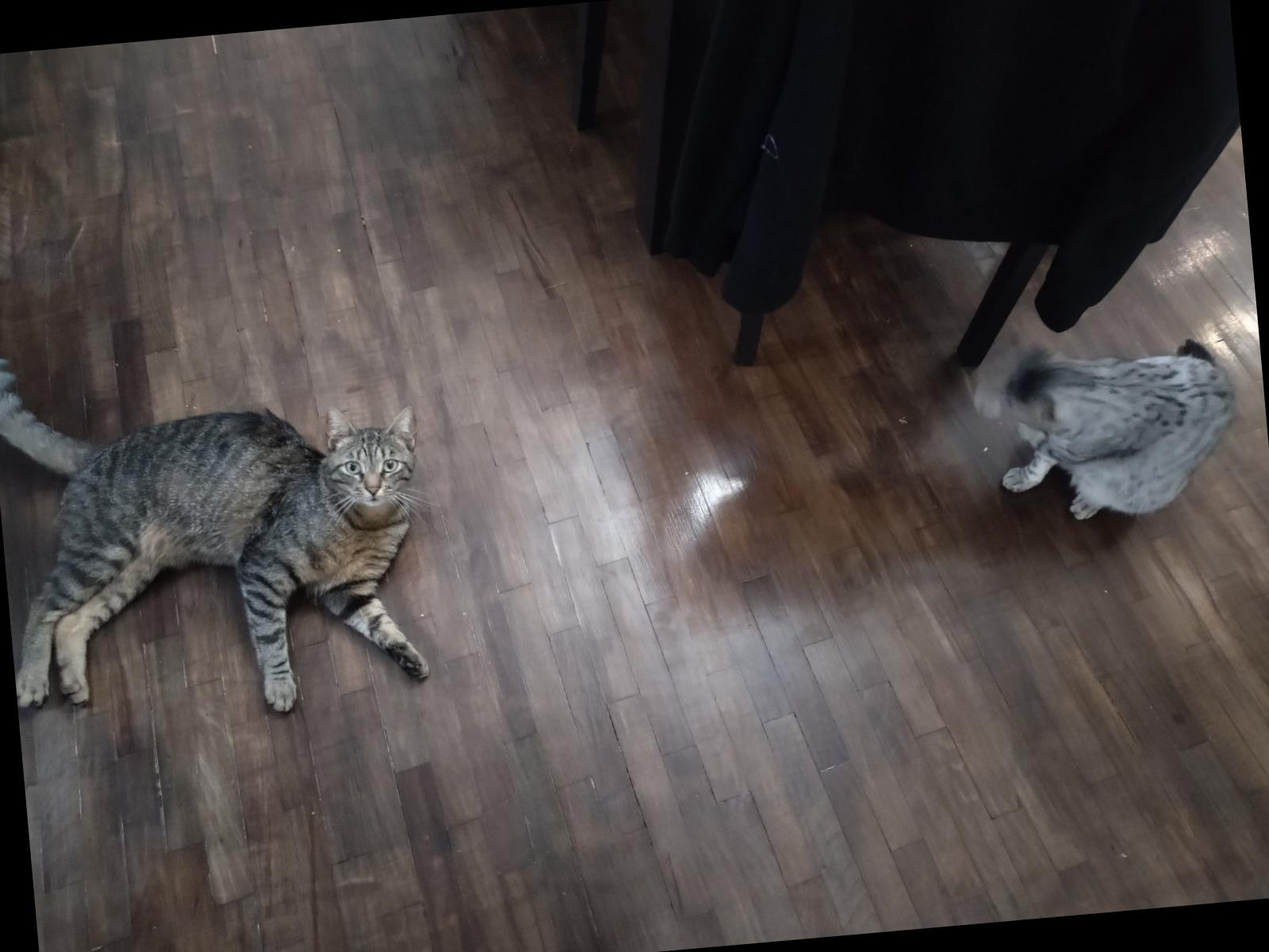macka: (0, 314, 443, 737), (985, 323, 1245, 530)
